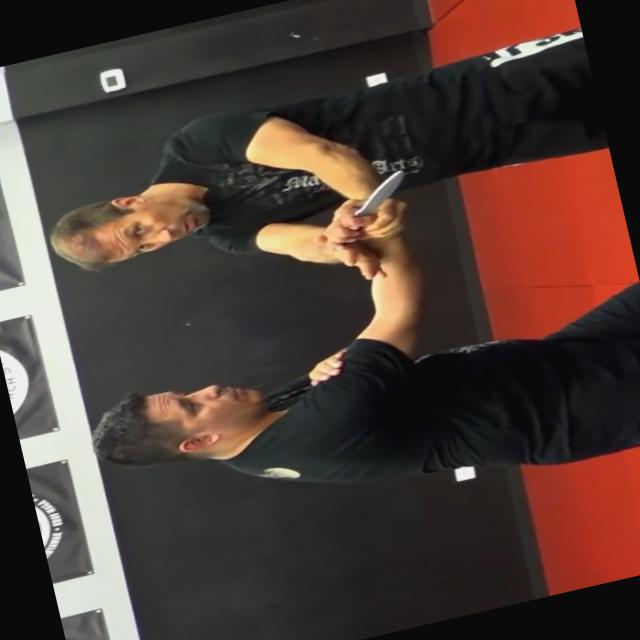knife: (310, 162, 422, 245)
